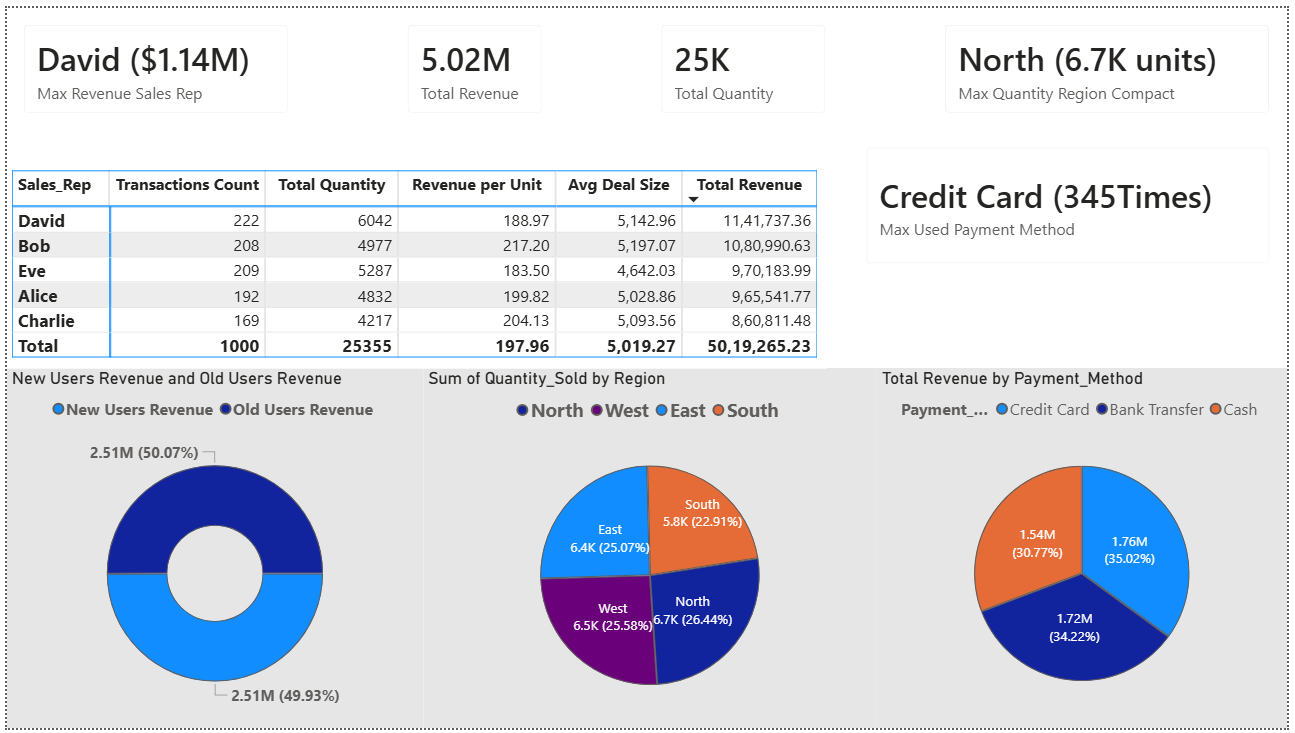

The page's visual inventory and layout, read from the dashboard file:
{"tool":"powerbi","page":{"name":"Page 2","canvas":[1280,720],"ordinal":1},"visuals":[{"type":"pieChart","fields":{"Category":["sales_data_1.Region"],"Y":["Sum(sales_data_1.Quantity_Sold)"]},"box":[416.2,360,453.8,360],"z":0},{"type":"donutChart","fields":{"Y":["sales_data_1.New Users Revenue","sales_data_1.Old Users Revenue"]},"box":[0,360,416.2,360],"z":1000},{"type":"pivotTable","fields":{"Values":["sales_data_1.Transactions Count","sales_data_1.Total Quantity","sales_data_1.Revenue per Unit","sales_data_1.Avg Deal Size","sales_data_1.Total Revenue"],"Rows":["sales_data_1.Sales_Rep"]},"box":[0,157.1,820,202.9],"z":2000},{"type":"pieChart","fields":{"Y":["sales_data_1.Total Revenue"],"Category":["sales_data_1.Payment_Method"]},"box":[870,360,410,360],"z":3000},{"type":"cardVisual","fields":{"Data":["sales_data_1.Total Revenue"]},"box":[383.8,0,168.6,122.9],"z":4000},{"type":"cardVisual","fields":{"Data":["sales_data_1.Total Quantity"]},"box":[637.6,0,198.6,122.9],"z":5000},{"type":"cardVisual","fields":{"Data":["sales_data_1.Max Quantity Region Compact"]},"box":[921.4,0,358.6,122.9],"z":5001},{"type":"cardVisual","fields":{"Data":["sales_data_1.Max Revenue Sales Rep Compact"]},"box":[0,0,298.6,122.9],"z":5002},{"type":"cardVisual","fields":{"Data":["sales_data_1.Max Used Payment Method"]},"box":[842.5,122.5,437.5,150],"z":5003}]}

Visuals, with their boxes in screenshot pixels (x1, y1, x2, y2), scaled from the page's 1280x720 canvas onto the 1295x733 screenshot:
pieChart - sales_data_1.Region x Sum(sales_data_1.Quantity_Sold): box(421, 366, 880, 732)
donutChart - sales_data_1.New Users Revenue x sales_data_1.Old Users Revenue: box(0, 366, 421, 732)
pivotTable - sales_data_1.Transactions Count x sales_data_1.Total Quantity: box(0, 160, 830, 366)
pieChart - sales_data_1.Total Revenue x sales_data_1.Payment_Method: box(880, 366, 1294, 732)
cardVisual - sales_data_1.Total Revenue: box(388, 0, 559, 125)
cardVisual - sales_data_1.Total Quantity: box(645, 0, 846, 125)
cardVisual - sales_data_1.Max Quantity Region Compact: box(932, 0, 1294, 125)
cardVisual - sales_data_1.Max Revenue Sales Rep Compact: box(0, 0, 302, 125)
cardVisual - sales_data_1.Max Used Payment Method: box(852, 125, 1294, 277)
